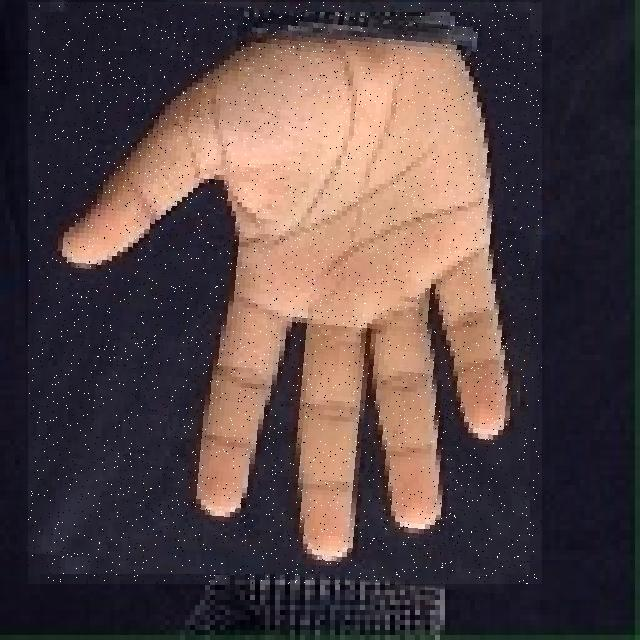Yes: (28, 2, 542, 584)
